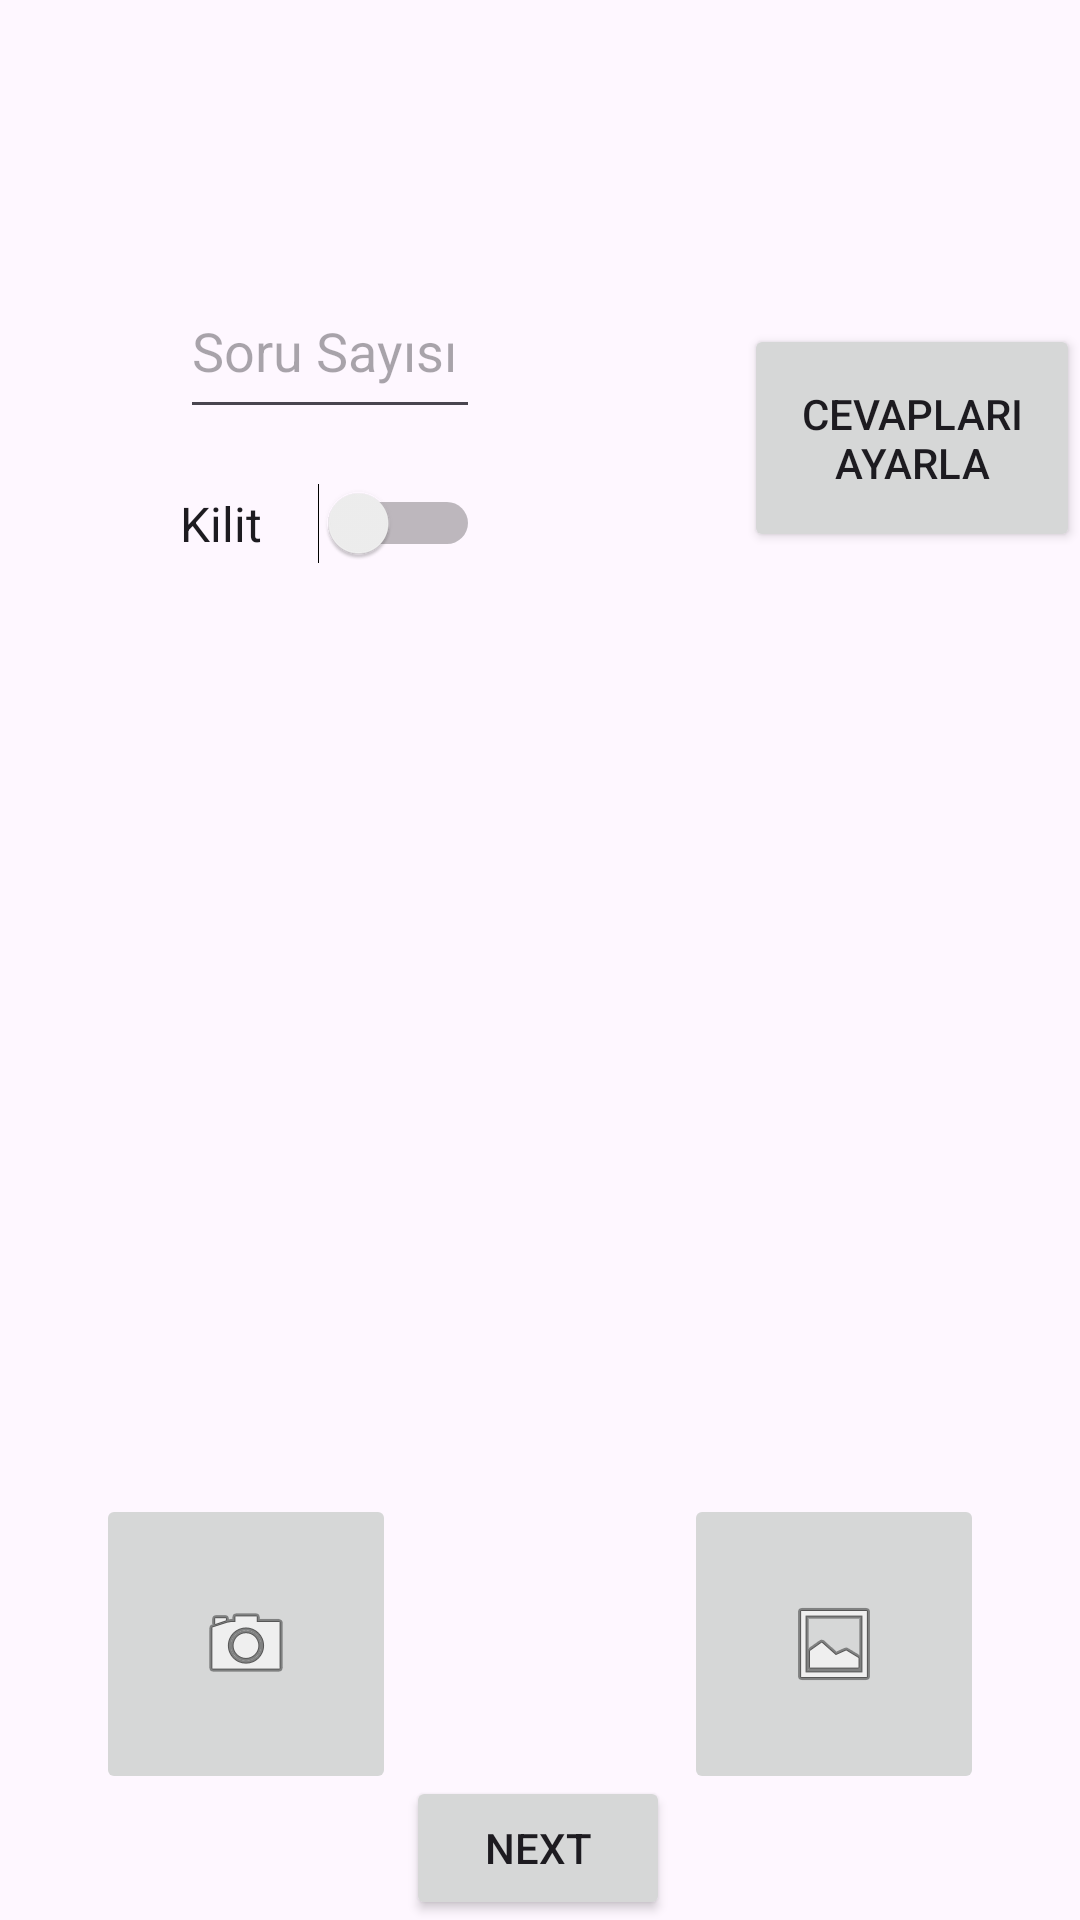

Named icons in this screenshot (1080 x 1920) and their bounding boxes, (x1, y1, x2, y2):
camera: (108, 1512, 384, 1776)
gallery: (696, 1512, 972, 1776)
